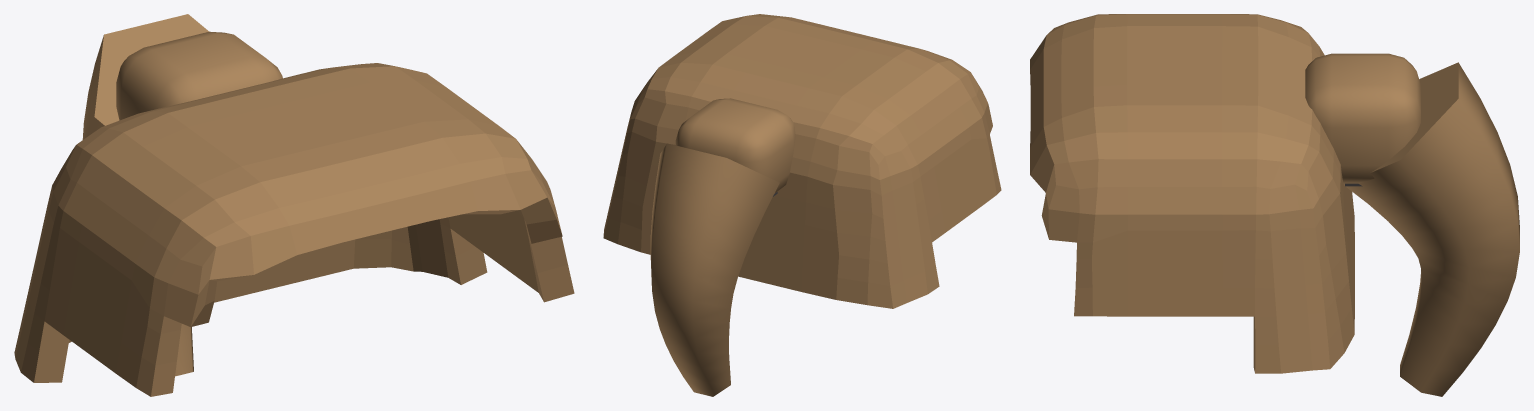
The model's file is hair-pony-brown.glb.
3 views of the same model, side by side, from view 1: azimuth 30°, elevation 25°; view 2: azimuth 150°, elevation 25°; view 3: azimuth 270°, elevation 25° (orthographic). The views are drawn at different scales.
Parts seen in each view (by area): view 1: hair_shell, hair_bun, hair_tail; view 2: hair_shell, hair_tail, hair_bun; view 3: hair_shell, hair_tail, hair_bun.
Part boxes in pixels (x1=…): hair_shell: x1=14, y1=63, x2=574, y2=396; hair_bun: x1=116, y1=31, x2=282, y2=120; hair_tail: x1=82, y1=14, x2=208, y2=376; hair_shell: x1=603, y1=14, x2=1001, y2=308; hair_tail: x1=650, y1=143, x2=779, y2=396; hair_bun: x1=675, y1=98, x2=795, y2=193; hair_shell: x1=1030, y1=14, x2=1354, y2=373; hair_tail: x1=1344, y1=62, x2=1519, y2=396; hair_bun: x1=1305, y1=53, x2=1420, y2=184.
Bounding box in the file's own units: 0.458 × 0.354 × 0.4829.
